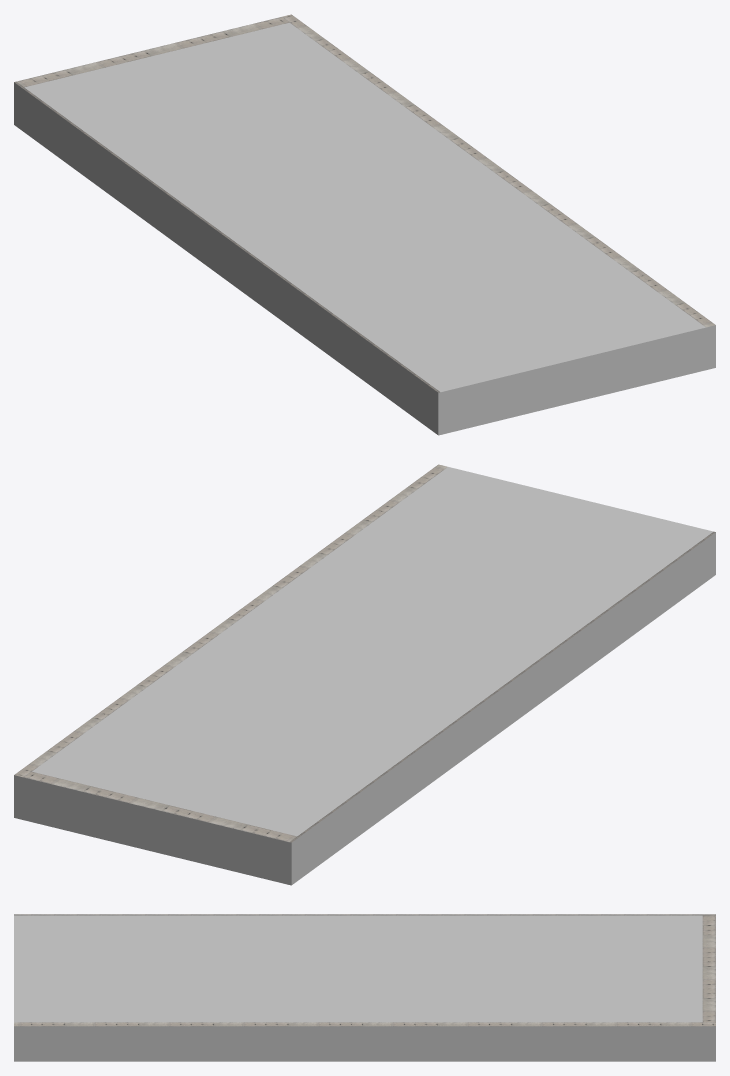
3 views of the same model, one above another, from view 1: azimuth 30°, elevation 25°; view 2: azimuth 150°, elevation 25°; view 3: azimuth 270°, elevation 25° (orthographic). The views are drawn at different scales.
Visible parts, largest first — view 1: BB_020_a1; view 2: BB_020_a1; view 3: BB_020_a1.
Boxes of the visible parts, x1=… form: BB_020_a1: x1=14, y1=14, x2=715, y2=435; BB_020_a1: x1=14, y1=464, x2=715, y2=885; BB_020_a1: x1=14, y1=914, x2=715, y2=1061.
Bounding box in the file's own units: 13.59 × 2 × 36.
